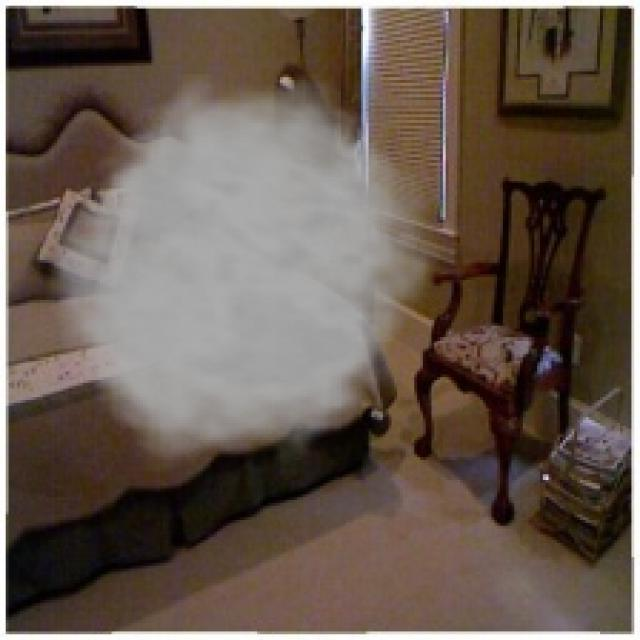Smoke: (37, 74, 452, 477)
